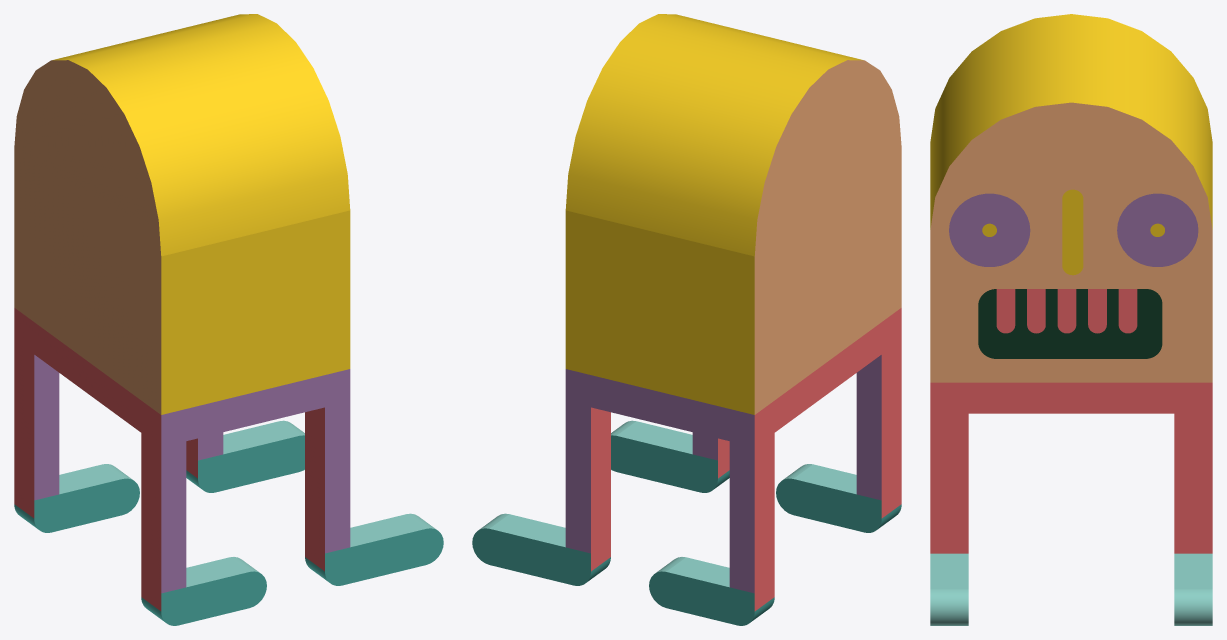
The model's file is objet2.dae.
3 renders of one model, left to right at view 1: azimuth 30°, elevation 25°; view 2: azimuth 150°, elevation 25°; view 3: azimuth 270°, elevation 25°, orthographic. The views are drawn at different scales.
Parts seen in each view (by area): view 1: instance_0 (×15); view 2: instance_0 (×15); view 3: instance_0 (×14).
Boxes of the visible parts, x1,y1,x2,y2 form: instance_0 (×15): [14, 14, 443, 625]; instance_0 (×15): [472, 14, 901, 625]; instance_0 (×14): [930, 14, 1212, 625].
Size of the model in its own units: 84.62 by 76.25 by 145.
